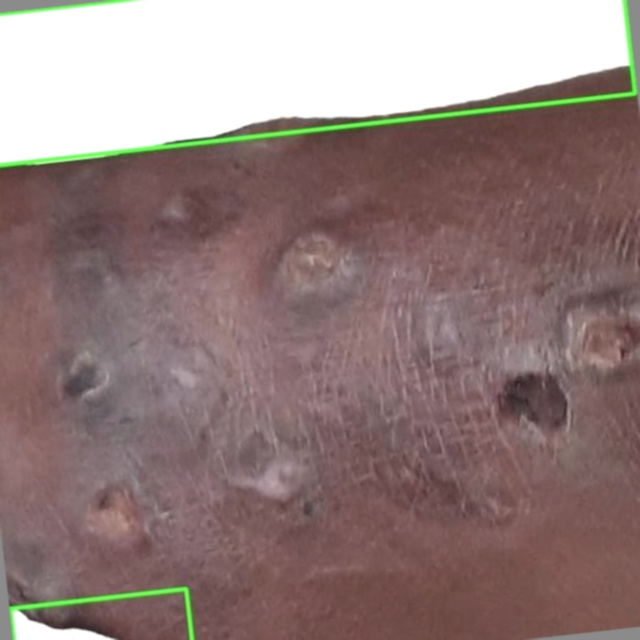Eczema: (0, 0, 636, 166)
